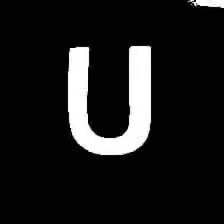LTR_U: (57, 36, 156, 162)
